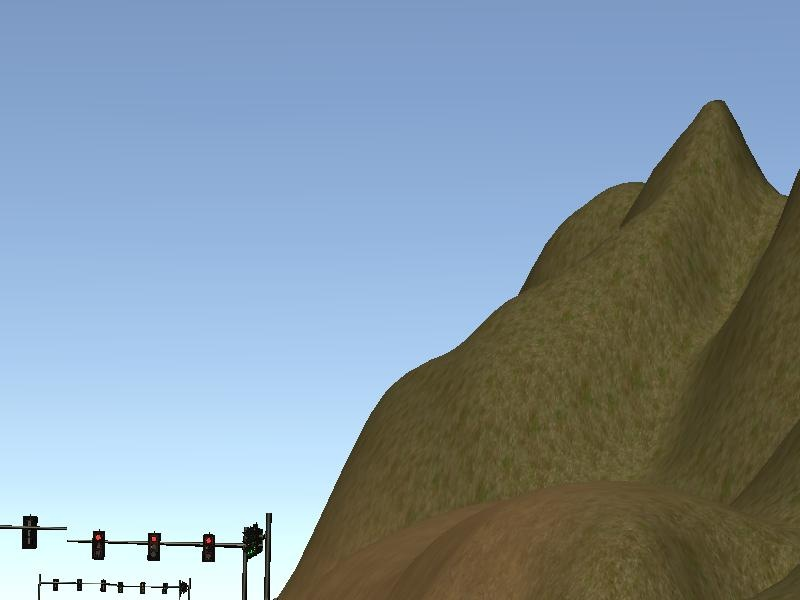traffic_light_red: (81, 530, 244, 564)
